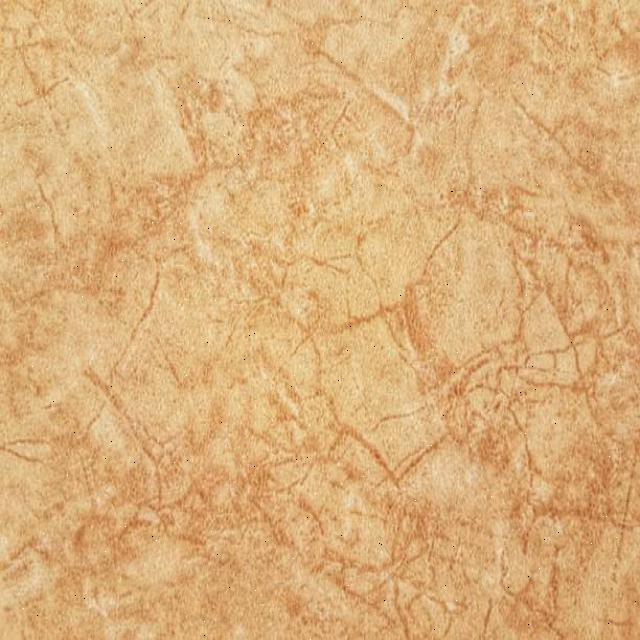Sedimentary: (1, 1, 637, 640)
